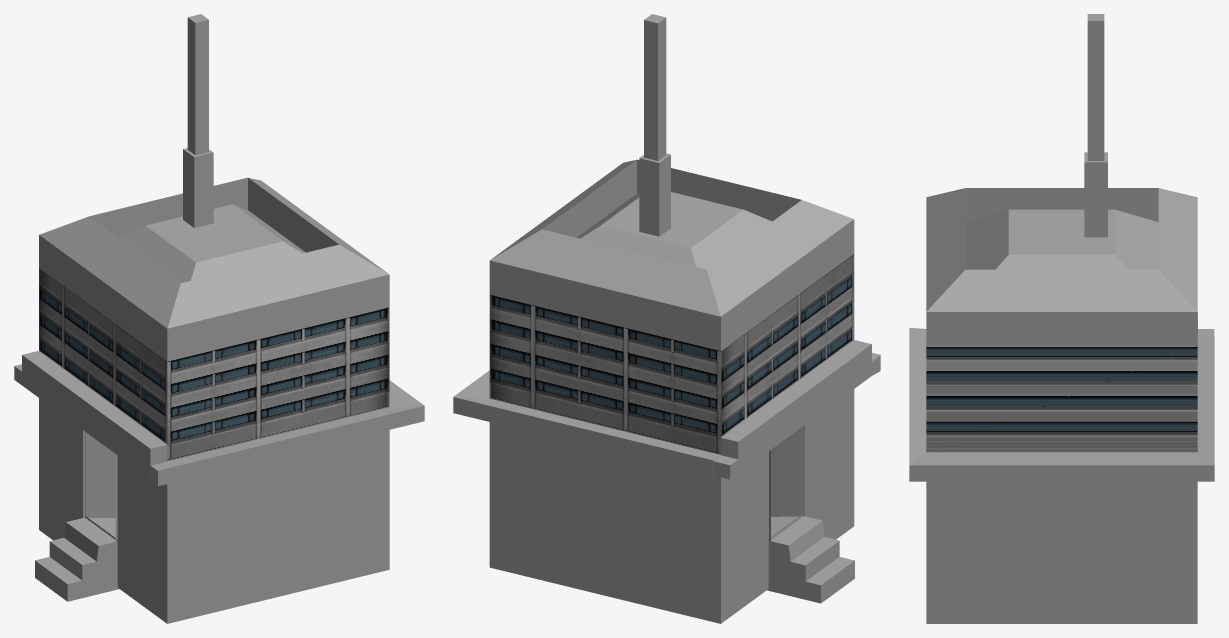
File: Building 2.fbx
3 views of the same model, side by side, from view 1: azimuth 30°, elevation 25°; view 2: azimuth 150°, elevation 25°; view 3: azimuth 270°, elevation 25° (orthographic). The views are drawn at different scales.
Visible parts, largest first — view 1: pCube96; view 2: pCube96; view 3: pCube96.
Boxes of the visible parts, x1,y1,x2,y2 form: pCube96: [14, 14, 424, 623]; pCube96: [453, 14, 880, 623]; pCube96: [909, 14, 1214, 623].
Bounding box in the file's own units: 30.19 × 50.23 × 25.19.
Materials: 2 (1 with a texture image).
